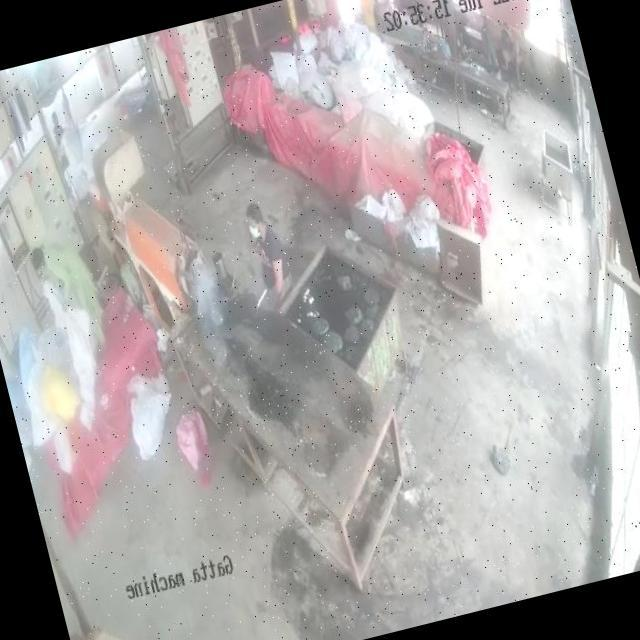person: (244, 200, 291, 299), (27, 242, 71, 334)
